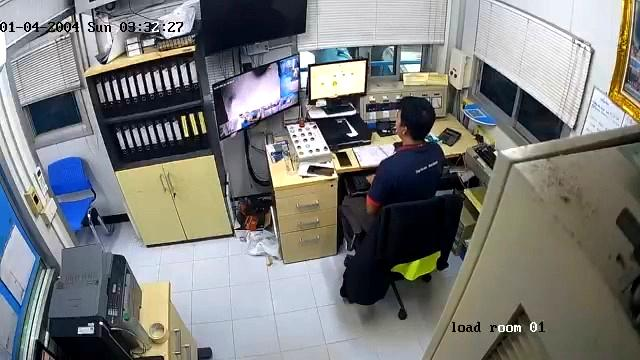Head: (396, 97, 435, 141)
People: (341, 97, 444, 237)
Phone: (307, 165, 333, 175), (336, 152, 351, 166)
